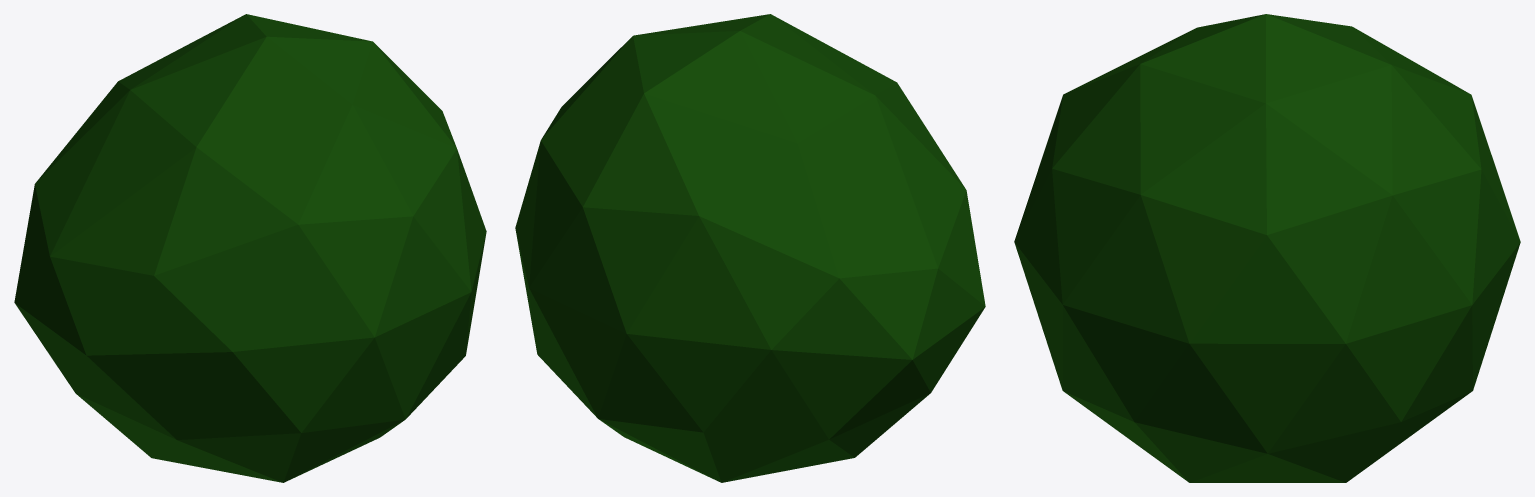
The picture shows the model from 3 angles, left to right: view 1: azimuth 30°, elevation 25°; view 2: azimuth 150°, elevation 25°; view 3: azimuth 270°, elevation 25°; orthographic projection. The views are drawn at different scales.
Visible parts, largest first — view 1: Icosphere.013; view 2: Icosphere.013; view 3: Icosphere.013.
Boxes of the visible parts, x1=… form: Icosphere.013: x1=14, y1=14, x2=486, y2=482; Icosphere.013: x1=515, y1=14, x2=985, y2=482; Icosphere.013: x1=1014, y1=14, x2=1520, y2=482.
Bounding box in the file's own units: 1.13 × 1.15 × 1.15.
